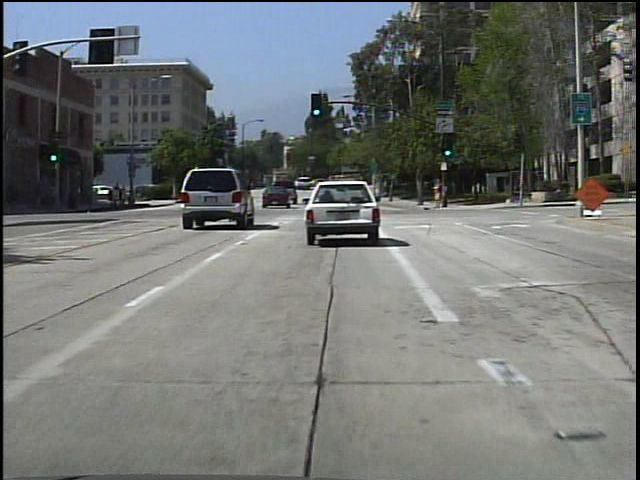person: (428, 174, 444, 209), (111, 179, 123, 208), (126, 182, 127, 209)
